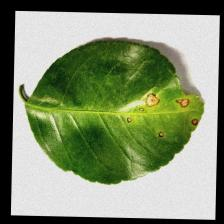canker: (119, 80, 196, 143)
